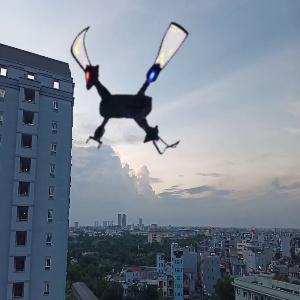drone: (52, 7, 205, 160)
